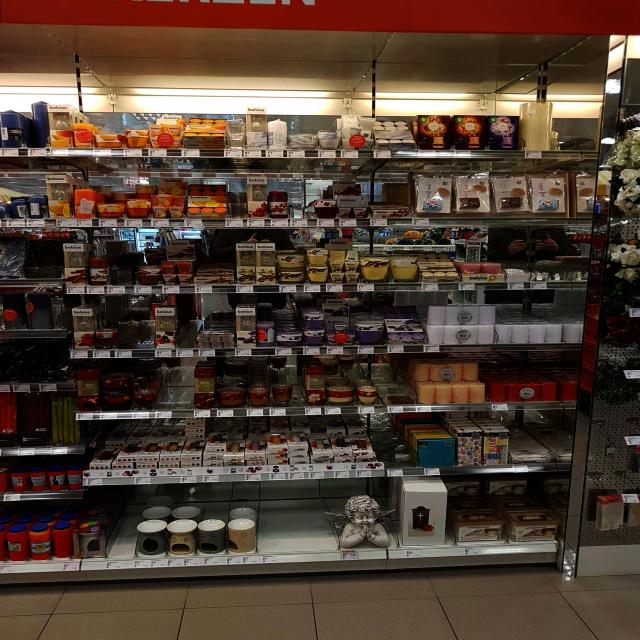empty_space: (259, 496, 329, 549), (161, 366, 195, 410), (119, 515, 137, 553), (514, 435, 538, 462)
